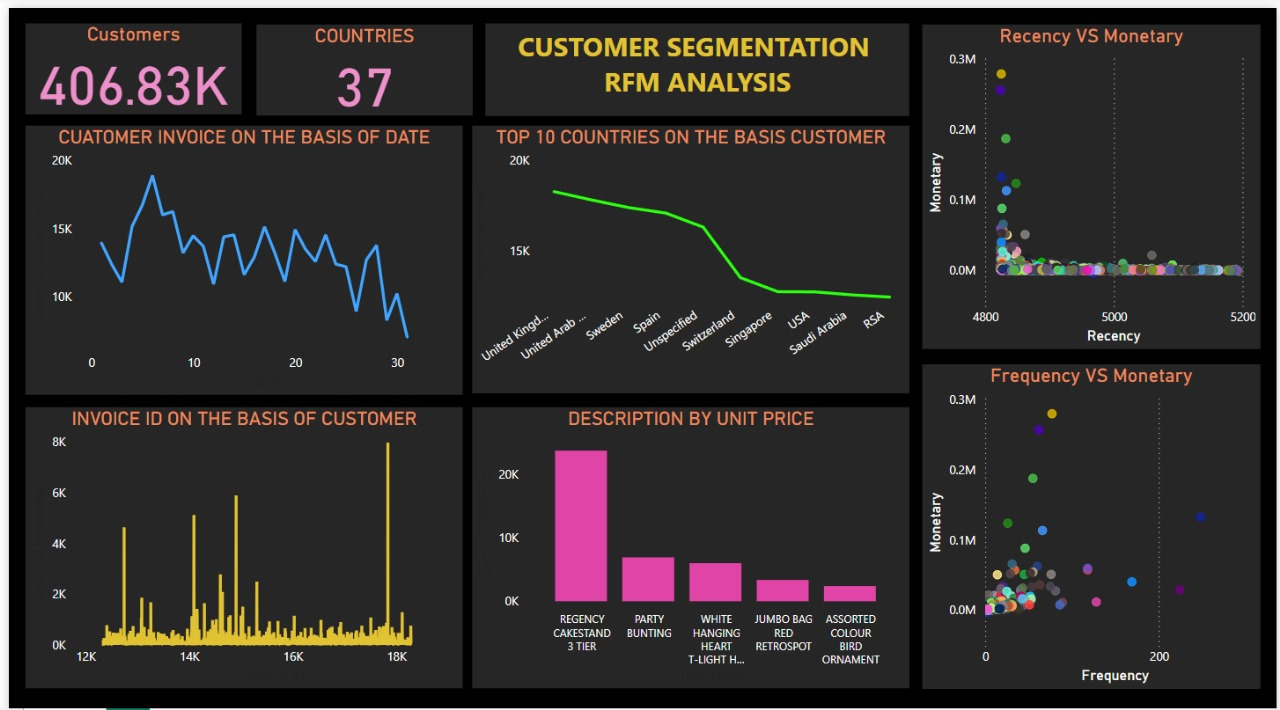

Layout of this report page (visuals, bound fields, positions):
{"tool":"powerbi","page":{"name":"Page 1","canvas":[1280,720],"ordinal":0},"visuals":[{"type":"lineChart","title":"CUATOMER INVOICE ON THE  BASIS OF DATE","fields":{"Y":["CountNonNull(Online Retail.CustomerID)"],"Category":["Online Retail.InvoiceDate.Variation.Date Hierarchy.Day"]},"box":[16.5,119.4,441.9,271.7],"z":0},{"type":"areaChart","title":"INVOICE ID ON THE BASIS OF CUSTOMER","fields":{"Category":["Online Retail.CustomerID"],"Y":["CountNonNull(Online Retail.InvoiceNo)"]},"box":[16.5,403.4,441.9,284],"z":1000},{"type":"areaChart","title":"TOP 10 COUNTRIES ON THE BASIS CUSTOMER ","fields":{"Category":["Online Retail.Country"],"Y":["Max(Online Retail.CustomerID)"]},"box":[467.9,119.4,441.9,270.3],"z":2000},{"type":"card","title":"Customers","fields":{"Values":["CountNonNull(Online Retail.CustomerID)"]},"box":[16.5,15.1,218.2,91.9],"z":3000},{"type":"card","title":"COUNTRIES","fields":{"Values":["Count(Online Retail.Country)"]},"box":[249.7,16.5,218.2,91.9],"z":4000},{"type":"lineStackedColumnComboChart","title":"DESCRIPTION BY UNIT PRICE","fields":{"Category":["Online Retail.Description"],"Y":["Sum(Online Retail.UnitPrice)"]},"box":[467.9,403.4,441.9,284],"z":5000},{"type":"scatterChart","title":"Frequency VS Monetary","fields":{"X":["Online Retail.Frequency"],"Y":["Online Retail.Monetary"],"Category":["Online Retail.CustomerID"]},"box":[922.1,359.5,341.7,328],"z":6000},{"type":"scatterChart","title":"Recency VS Monetary","fields":{"Category":["Online Retail.CustomerID"],"X":["Online Retail.Recency"],"Y":["Online Retail.Monetary"]},"box":[922.1,16.5,341.7,328],"z":7000},{"type":"textbox","box":[481.6,15.1,428.1,93.3],"z":7001}]}

Visuals, with their boxes in screenshot pixels (x1, y1, x2, y2), scaled from the page's 1280x720 canvas onto the 1280x710 screenshot:
"CUATOMER INVOICE ON THE  BASIS OF DATE" lineChart: pyautogui.locateOnScreen(16, 118, 458, 386)
"INVOICE ID ON THE BASIS OF CUSTOMER" areaChart: pyautogui.locateOnScreen(16, 398, 458, 678)
"TOP 10 COUNTRIES ON THE BASIS CUSTOMER " areaChart: pyautogui.locateOnScreen(468, 118, 910, 384)
"Customers" card: pyautogui.locateOnScreen(16, 15, 235, 106)
"COUNTRIES" card: pyautogui.locateOnScreen(250, 16, 468, 107)
"DESCRIPTION BY UNIT PRICE" lineStackedColumnComboChart: pyautogui.locateOnScreen(468, 398, 910, 678)
"Frequency VS Monetary" scatterChart: pyautogui.locateOnScreen(922, 355, 1264, 678)
"Recency VS Monetary" scatterChart: pyautogui.locateOnScreen(922, 16, 1264, 340)
textbox: pyautogui.locateOnScreen(482, 15, 910, 107)
